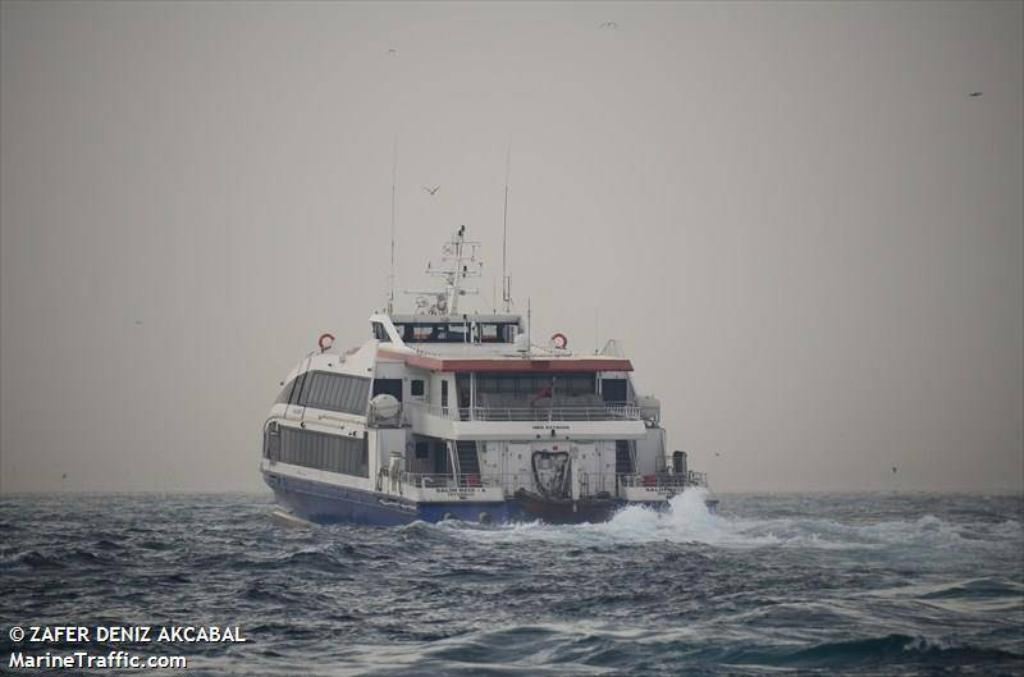PassengerShip: (254, 160, 722, 546)
